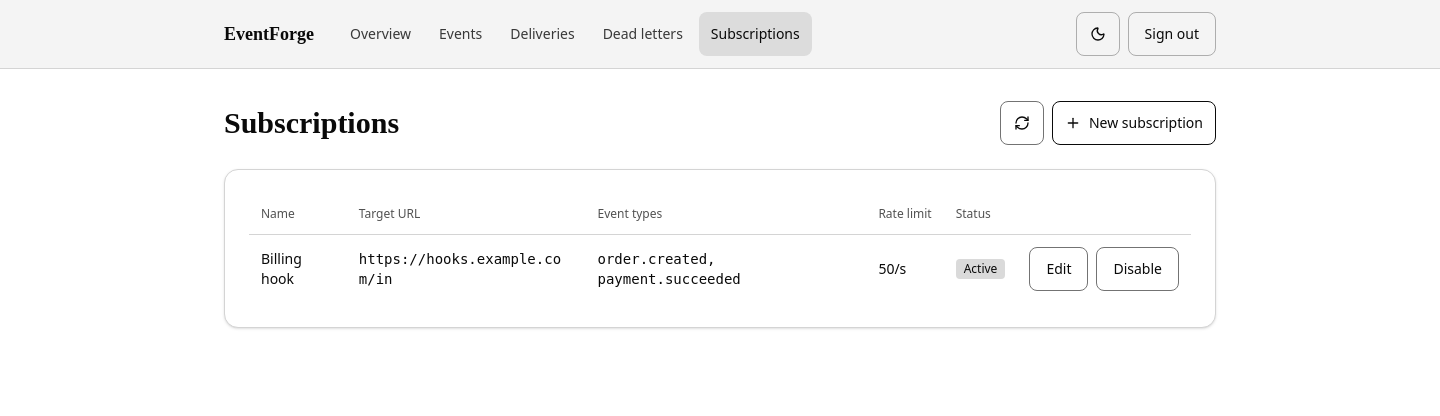
Editing and disabling › keeps the list and reports a failed toggle
Click the button with aria-label "Disable Billing hook": (1138,268) [1096, 246, 1179, 290]
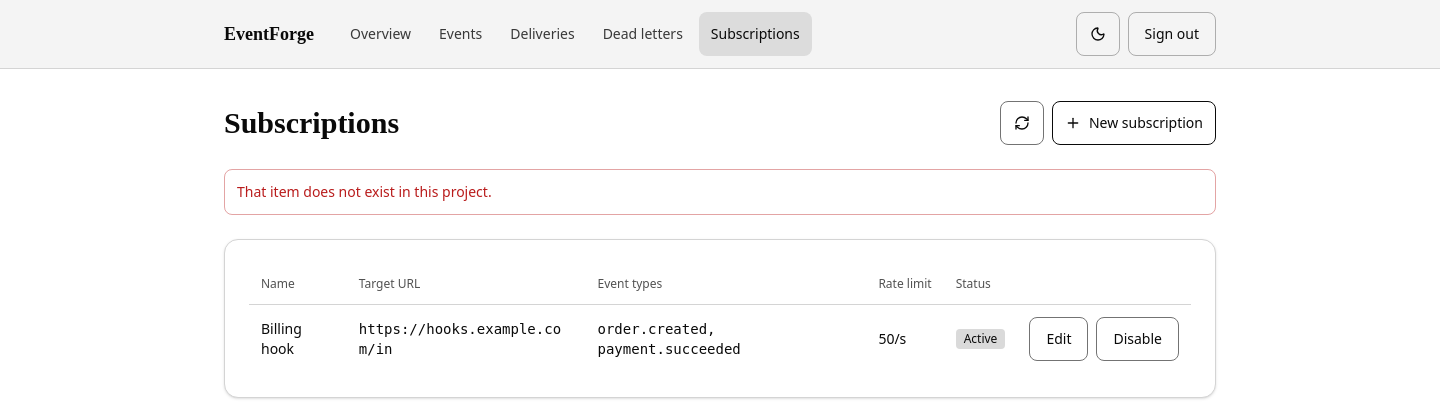
expect the text "Active" is shown: met, box [956, 329, 1005, 349]
expect the message shows "does not exist": met, box [237, 182, 492, 201]
